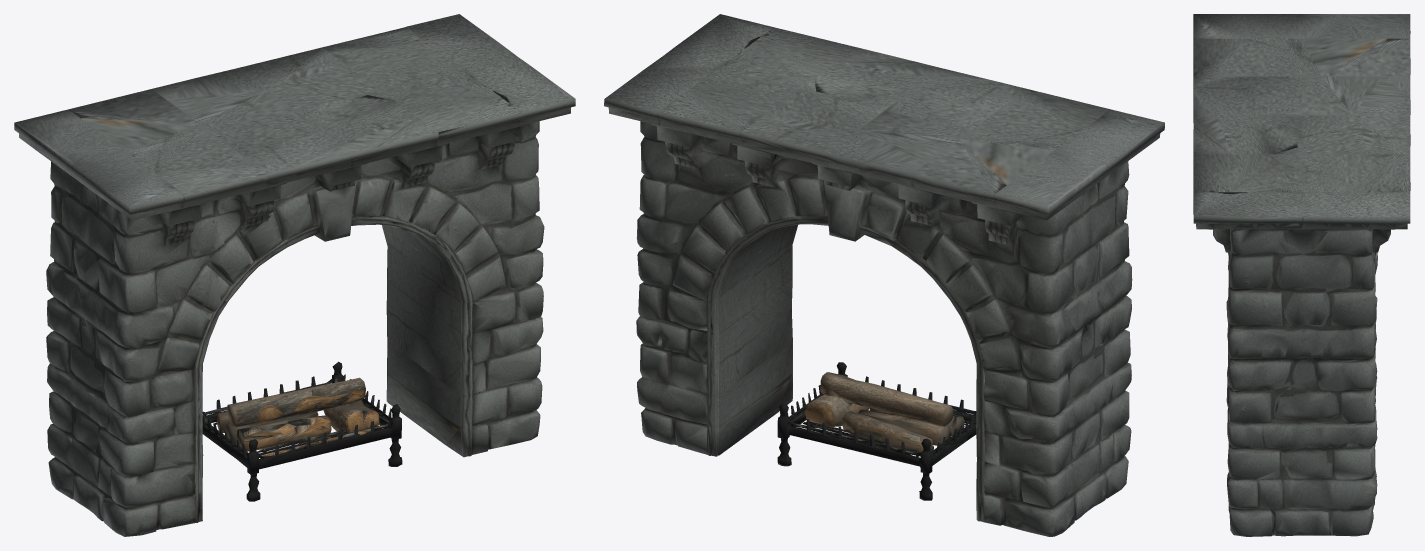
The model's file is hearth.glb.
The picture shows the model from 3 angles, left to right: view 1: azimuth 30°, elevation 25°; view 2: azimuth 150°, elevation 25°; view 3: azimuth 270°, elevation 25°; orthographic projection. The views are drawn at different scales.
Visible parts, largest first — view 1: hearth; view 2: hearth; view 3: hearth.
Boxes of the visible parts, x1,y1,x2,y2 form: hearth: [14, 14, 575, 536]; hearth: [604, 14, 1164, 536]; hearth: [1193, 14, 1410, 536].
Size of the model in its own units: 2.79 by 2.1 by 1.26.
Materials: 1 (1 with a texture image).
